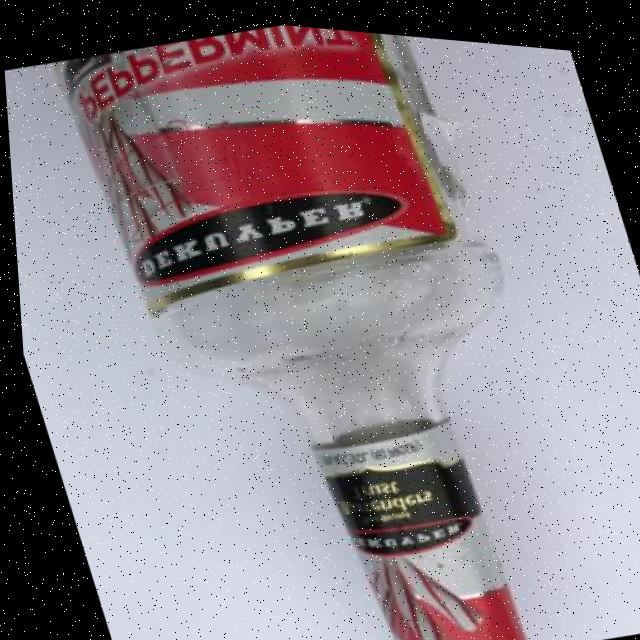glass: (49, 3, 613, 640)
